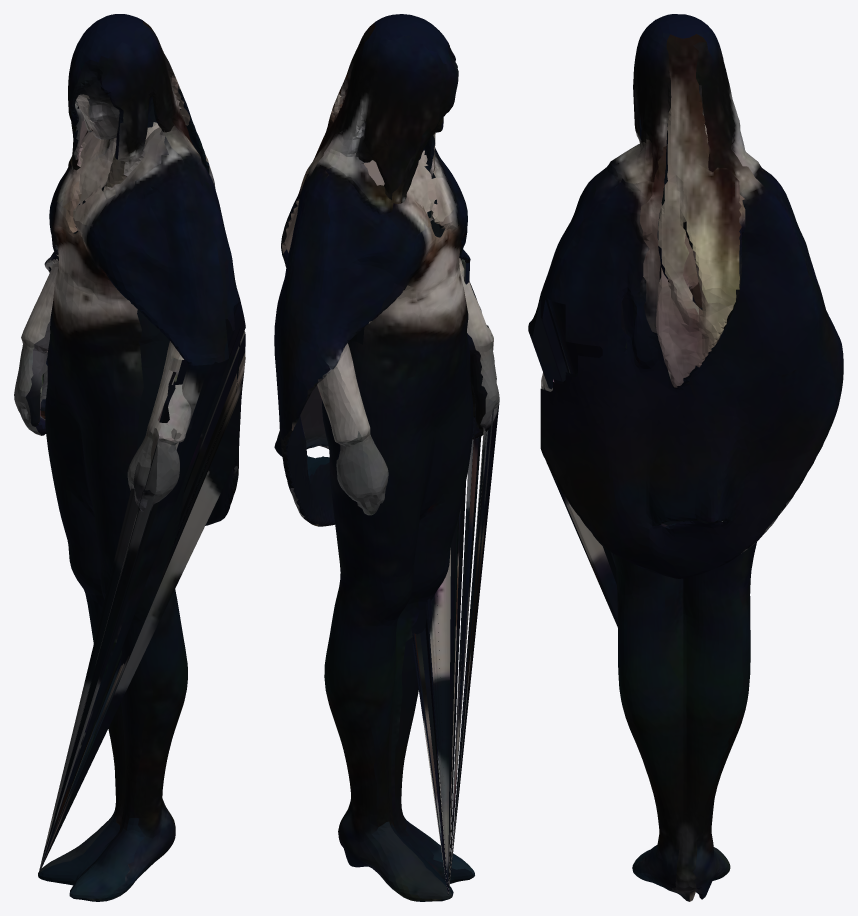
Rendered from garak_doll9.glb.
3 views of the same model, side by side, from view 1: azimuth 30°, elevation 25°; view 2: azimuth 150°, elevation 25°; view 3: azimuth 270°, elevation 25° (orthographic).
Visible parts, largest first — view 1: doll9.obj; view 2: doll9.obj; view 3: doll9.obj.
Part boxes in pixels (x1,y1,x2,y2): doll9.obj: (14, 14, 245, 901); doll9.obj: (274, 14, 499, 901); doll9.obj: (528, 14, 843, 901).
Bounding box in the file's own units: 0.4163 × 1.95 × 0.6395.
1 material, 1 textured.
